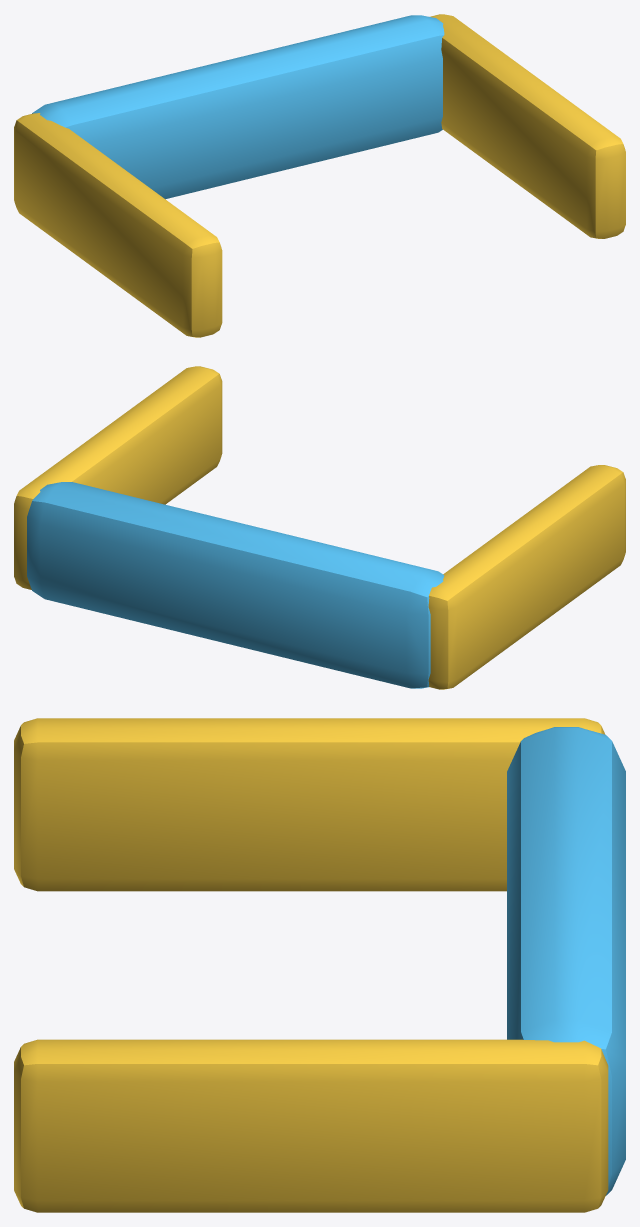
The model's file is AccVisor.fbx.
3 renders of one model, top to bottom at view 1: azimuth 30°, elevation 25°; view 2: azimuth 150°, elevation 25°; view 3: azimuth 270°, elevation 25°, orthographic. The views are drawn at different scales.
Parts seen in each view (by area): view 1: AccVisor; view 2: AccVisor; view 3: AccVisor.
Boxes of the visible parts, x1,y1,x2,y2 form: AccVisor: (14,14,625,337); AccVisor: (14,366,625,689); AccVisor: (14,718,625,1212).
Bounding box in the file's own units: 140 × 34 × 103.
